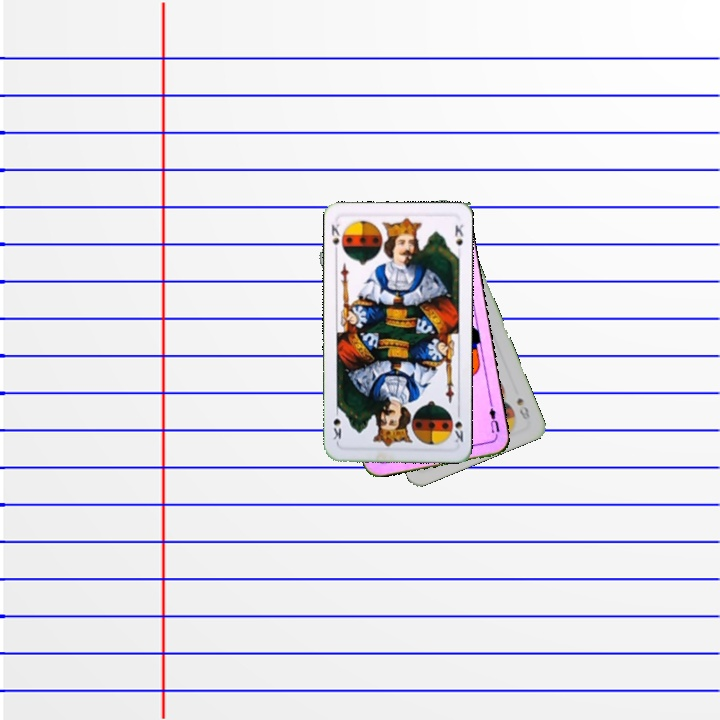EU: (485, 399, 502, 440)
S8: (513, 394, 533, 422)
SK: (327, 220, 347, 257), (450, 406, 465, 445)
